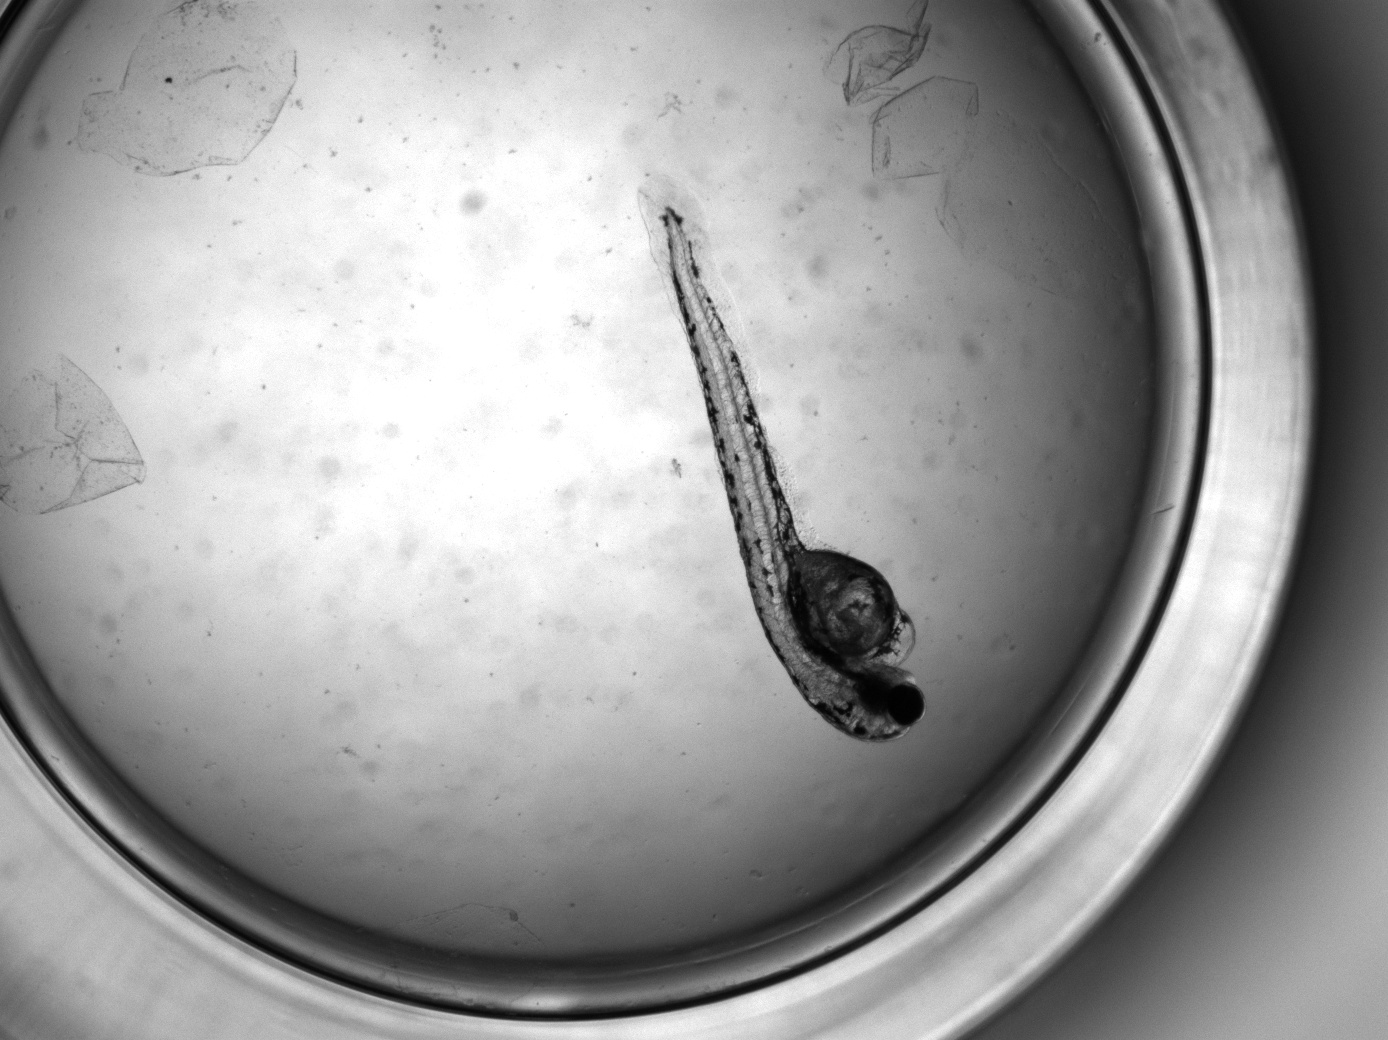debris: (75, 1, 301, 177), (823, 1, 977, 180), (1, 351, 146, 516)
embryo: (661, 206, 926, 744)
eye: (890, 682, 926, 726), (857, 673, 890, 713)
yolksac: (781, 544, 915, 677)
